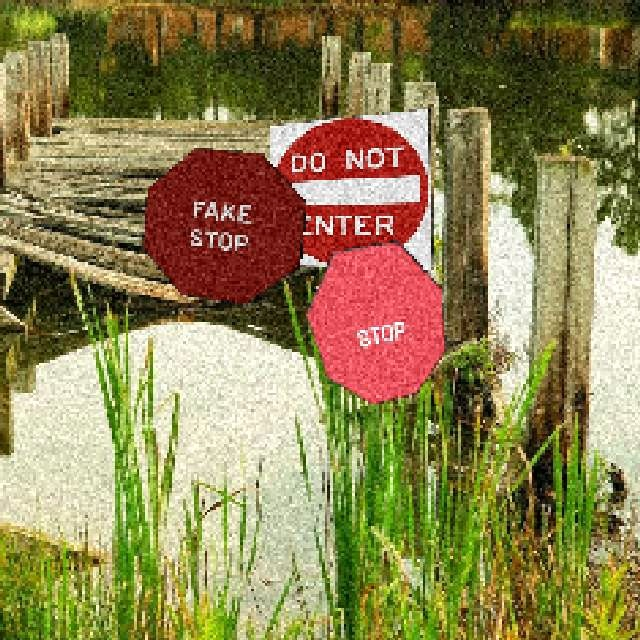DO_NOT_ENTER: (267, 106, 432, 269)
FAKE_STOP: (140, 146, 305, 303)
STOP: (303, 238, 444, 403)
